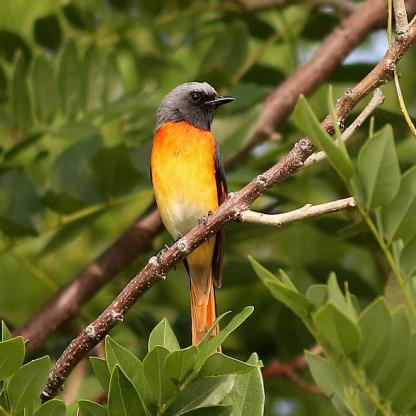Burung: (149, 82, 234, 358)
